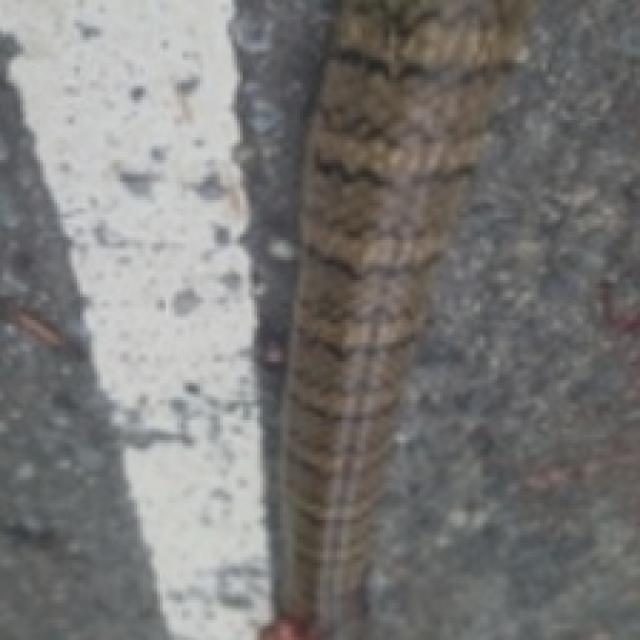king cobra: (231, 0, 526, 634)
